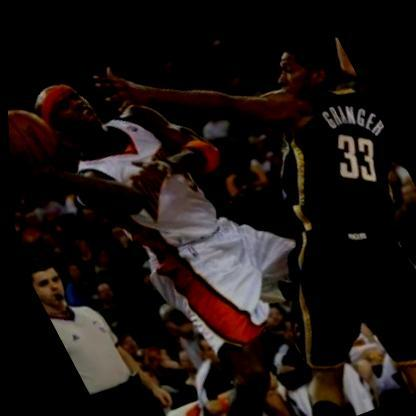basketball: (5, 100, 68, 194)
